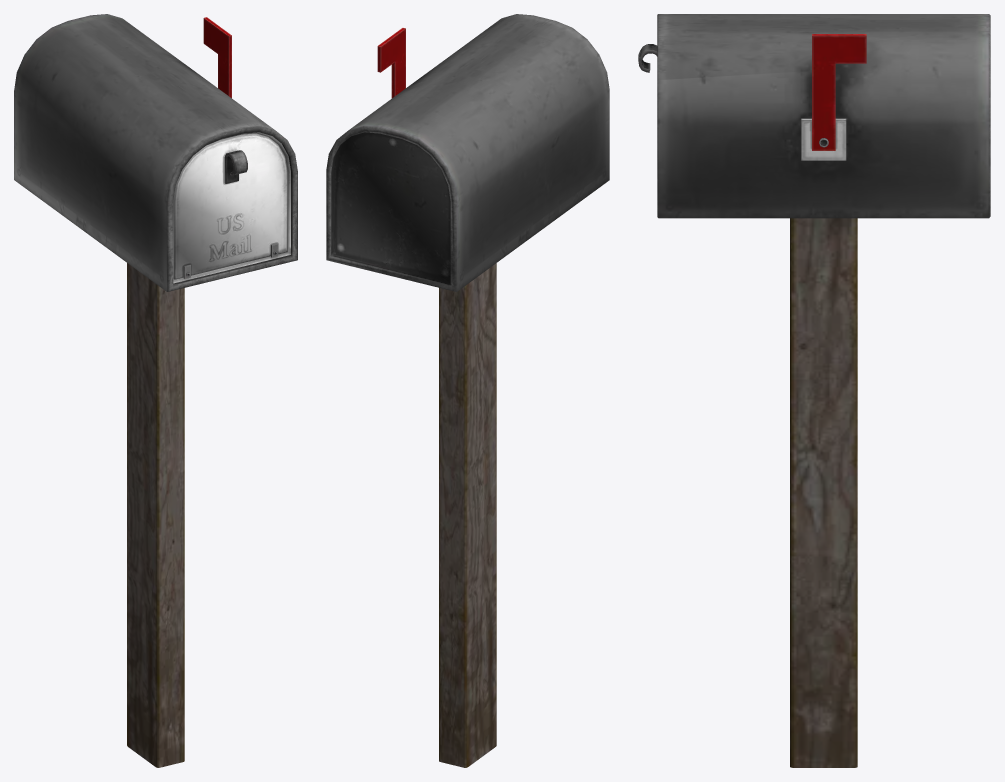
File: mailbox_us.glb
3 views of the same model, side by side, from view 1: azimuth 30°, elevation 25°; view 2: azimuth 150°, elevation 25°; view 3: azimuth 270°, elevation 25° (orthographic). The views are drawn at different scales.
Visible parts, largest first — view 1: Object_4; view 2: Object_4; view 3: Object_4.
Boxes of the visible parts, x1,y1,x2,y2 form: Object_4: (14, 14, 297, 767); Object_4: (326, 14, 609, 767); Object_4: (638, 14, 990, 767).
Bounding box in the file's own units: 0.7313 × 3.56 × 1.49.
Materials: 1 (1 with a texture image).
